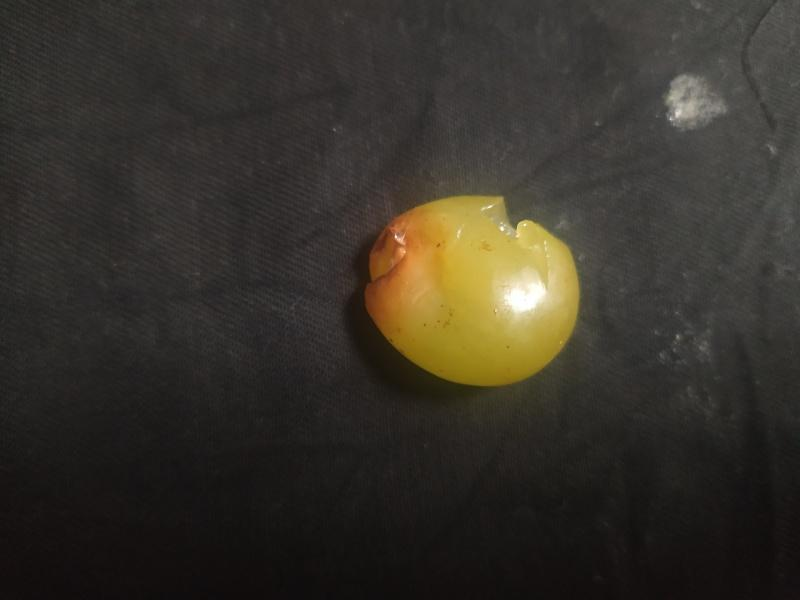Grape Overripe: (362, 189, 585, 391)
